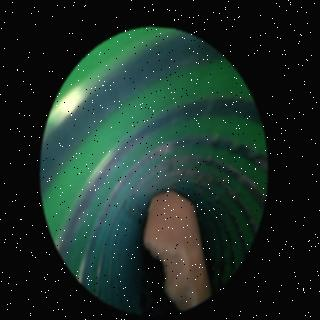stone: (147, 189, 213, 307)
